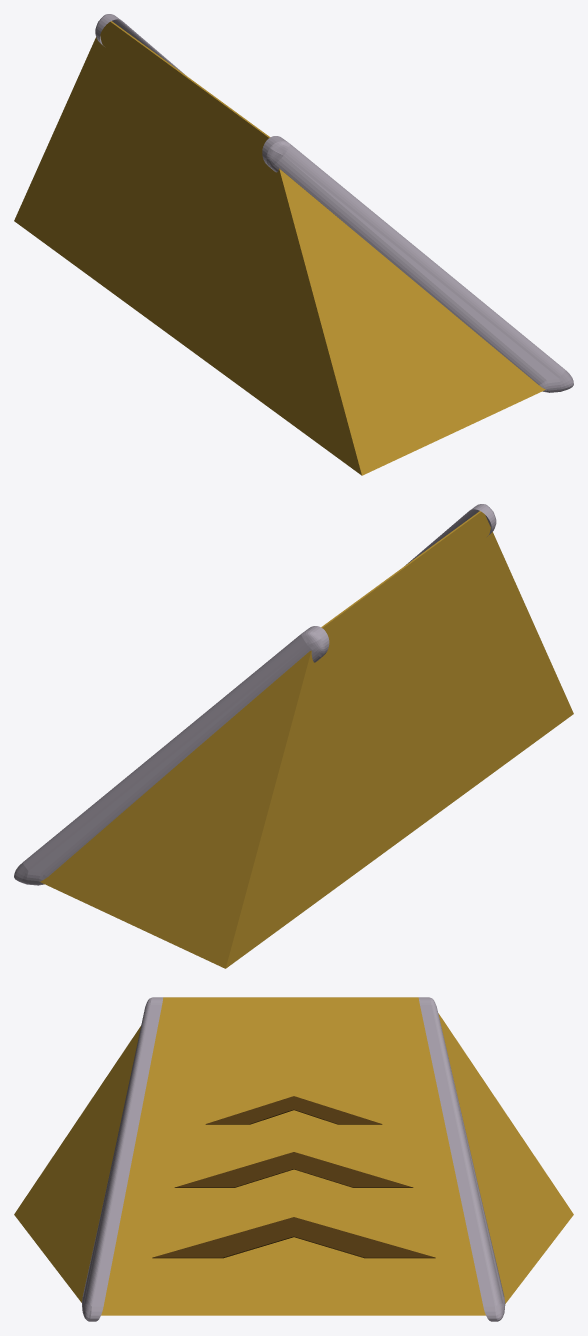
Rendered from RumpMedium.fbx.
The picture shows the model from 3 angles, top to bottom: view 1: azimuth 30°, elevation 25°; view 2: azimuth 150°, elevation 25°; view 3: azimuth 270°, elevation 25°; orthographic projection. The views are drawn at different scales.
Visible parts, largest first — view 1: Cube, Cube.004; view 2: Cube, Cube.004; view 3: Cube, Cube.004, Cube.003, Cube.002, Cube.001.
Boxes of the visible parts, box(x1,y1,x2,y2) form: Cube: box(14, 21, 545, 475); Cube.004: box(95, 14, 573, 392); Cube: box(40, 511, 573, 968); Cube.004: box(14, 504, 496, 885); Cube: box(14, 997, 573, 1315); Cube.004: box(82, 997, 505, 1321); Cube.003: box(152, 1217, 435, 1258); Cube.002: box(174, 1152, 413, 1187); Cube.001: box(205, 1096, 382, 1124).
Bounding box in the file's own units: 208 × 208 × 468.
